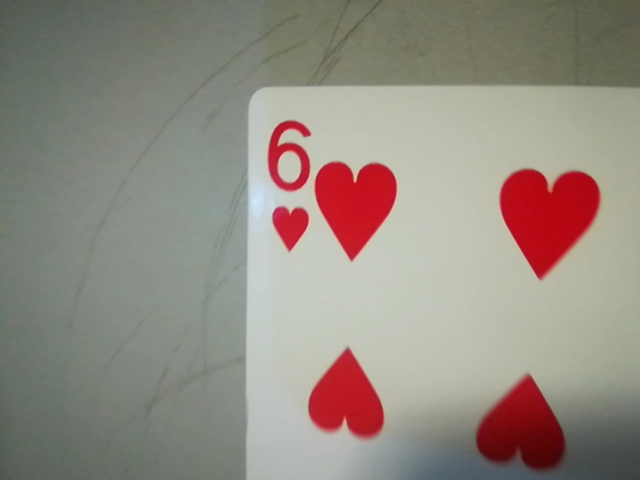hx 6: (253, 110, 318, 261)
